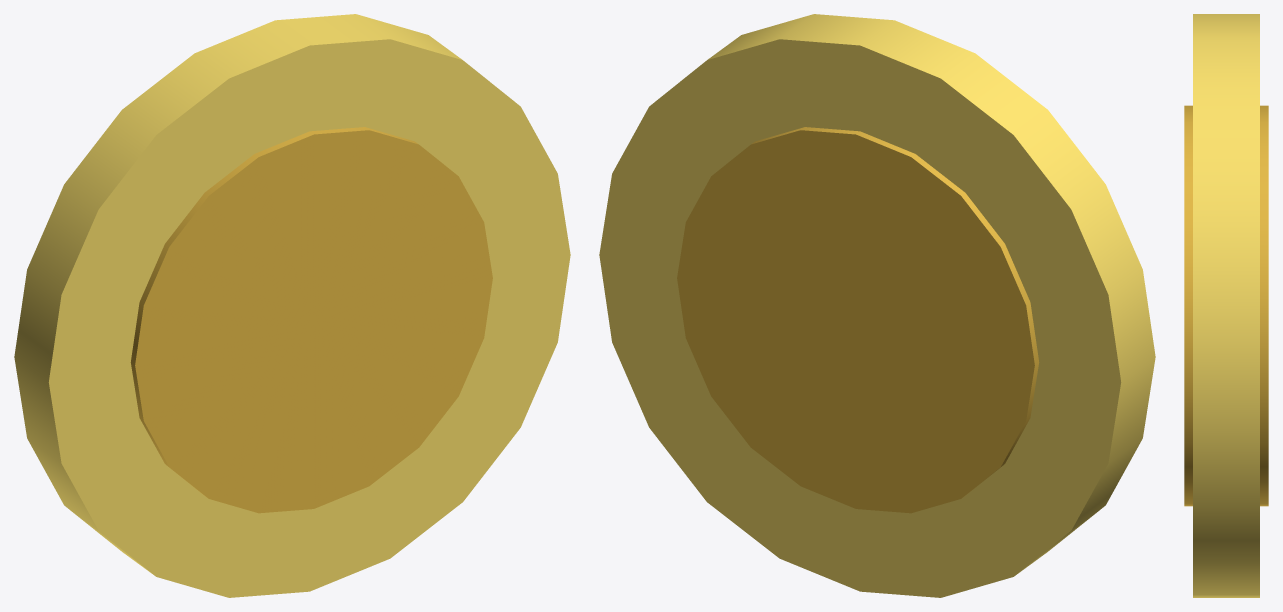
File: coin.gltf
3 views of the same model, side by side, from view 1: azimuth 30°, elevation 25°; view 2: azimuth 150°, elevation 25°; view 3: azimuth 270°, elevation 25° (orthographic). The views are drawn at different scales.
Parts seen in each view (by area): view 1: coin; view 2: coin; view 3: coin.
Part boxes in pixels (x1,y1,x2,y2): coin: (14,14,570,597); coin: (599,14,1155,597); coin: (1184,14,1268,597).
Bounding box in the file's own units: 0.7 × 0.7 × 0.1.
